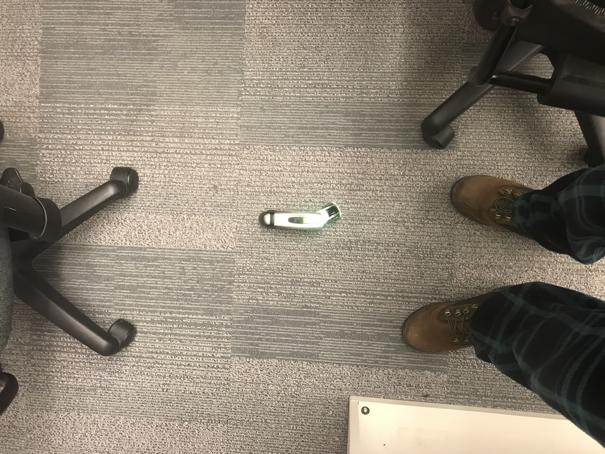Freewheel: (257, 200, 345, 232)
